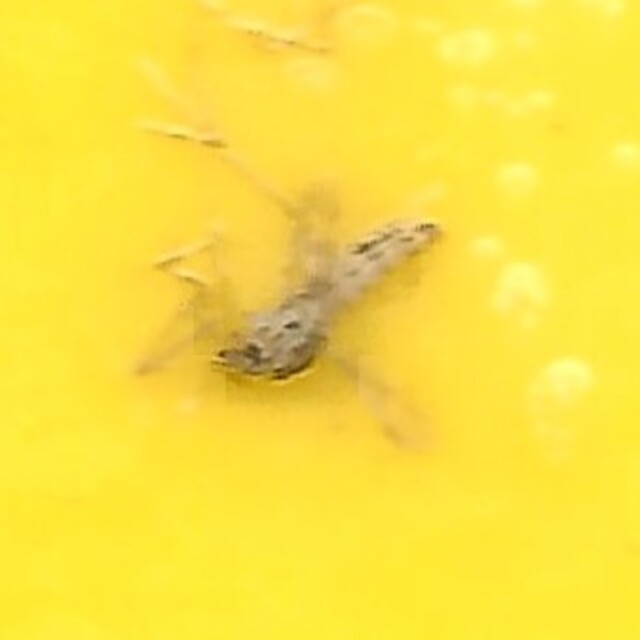Nematocera: (190, 190, 450, 450)
